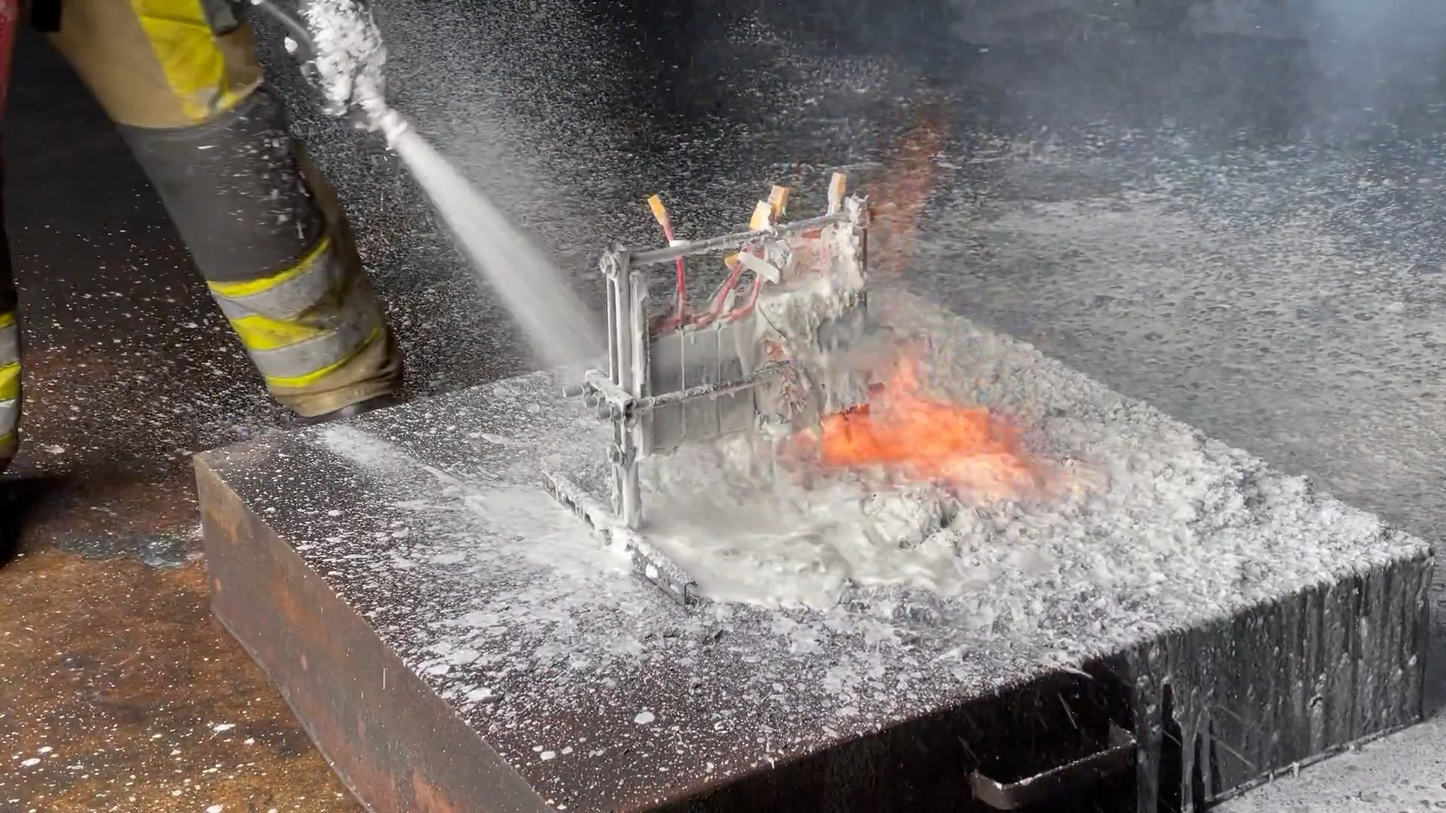fire: (789, 341, 1102, 501), (850, 105, 946, 299)
